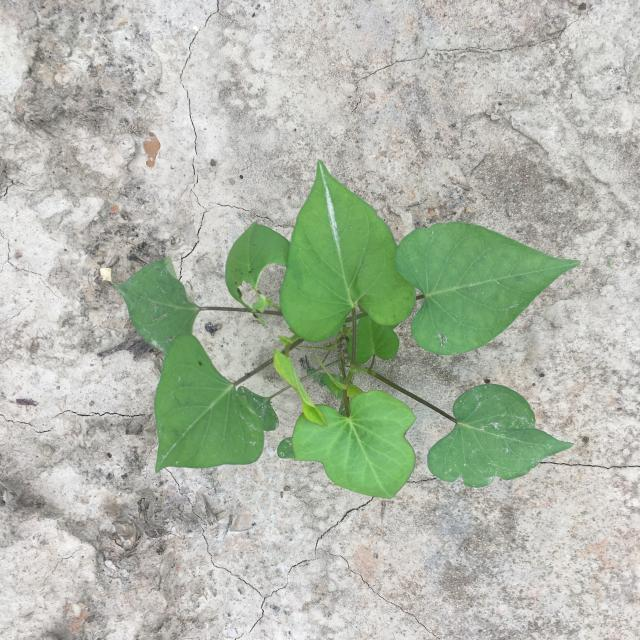MorningGlory: (112, 160, 581, 498)
